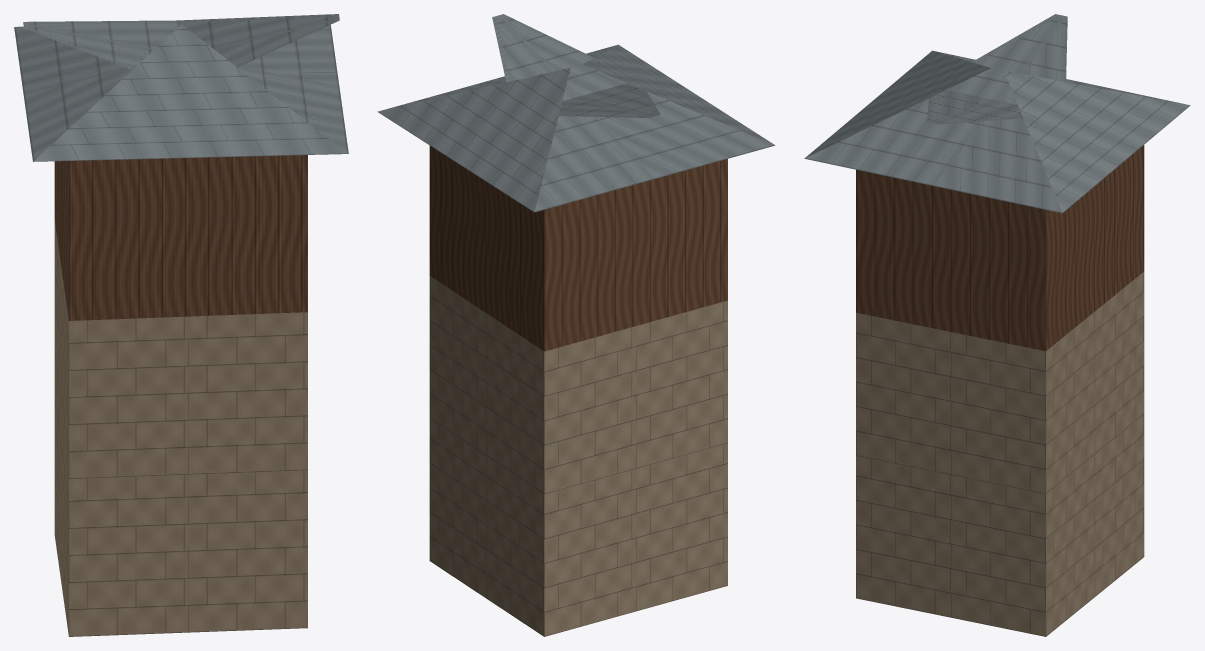
File: bld_c12_29_385.gltf
3 renders of one model, left to right at view 1: azimuth 30°, elevation 25°; view 2: azimuth 150°, elevation 25°; view 3: azimuth 270°, elevation 25°, orthographic. The views are drawn at different scales.
Visible parts, largest first — view 1: bld_c12_29_385; view 2: bld_c12_29_385; view 3: bld_c12_29_385.
Boxes of the visible parts, x1,y1,x2,y2 form: bld_c12_29_385: (14, 14, 348, 636); bld_c12_29_385: (377, 14, 775, 636); bld_c12_29_385: (804, 14, 1190, 636).
Size of the model in its own units: 5.57 by 8.1 by 5.59.
Materials: 3 (3 with a texture image).
